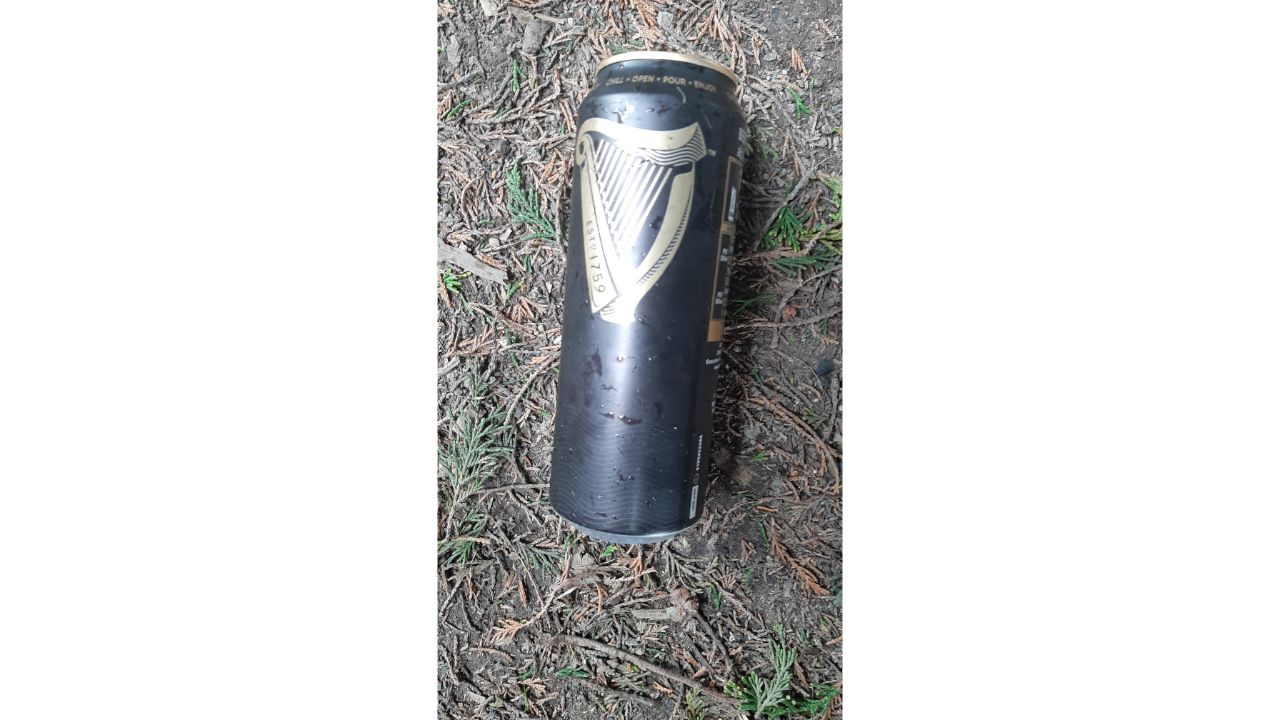Can: (527, 34, 778, 562)
